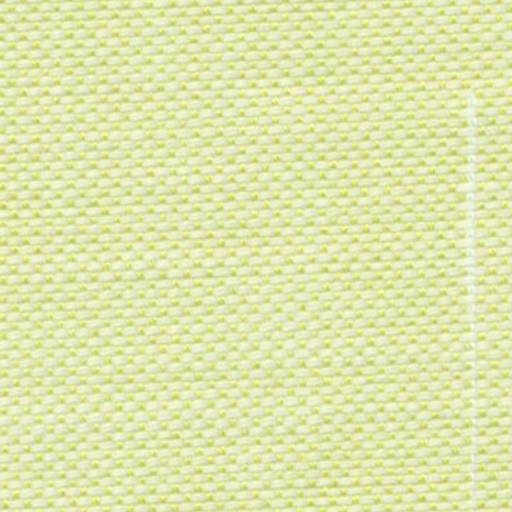DaiSha: (448, 86, 493, 462)
